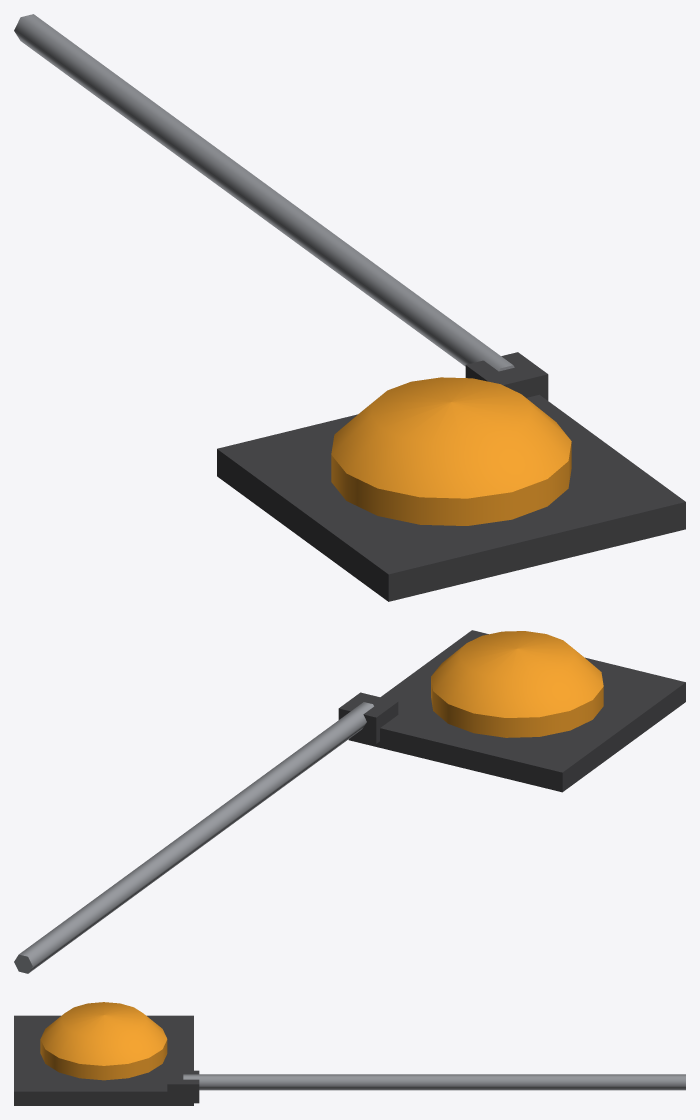
The model's file is boat20_beacon.obj.
The picture shows the model from 3 angles, top to bottom: view 1: azimuth 30°, elevation 25°; view 2: azimuth 150°, elevation 25°; view 3: azimuth 270°, elevation 25°; orthographic projection. The views are drawn at different scales.
Parts seen in each view (by area): view 1: boat20_beacon; view 2: boat20_beacon; view 3: boat20_beacon.
Boxes of the visible parts, x1,y1,x2,y2 form: boat20_beacon: [14, 14, 685, 601]; boat20_beacon: [14, 630, 685, 973]; boat20_beacon: [14, 1002, 685, 1105].
Bounding box in the file's own units: 0.35 × 0.11 × 1.27.
